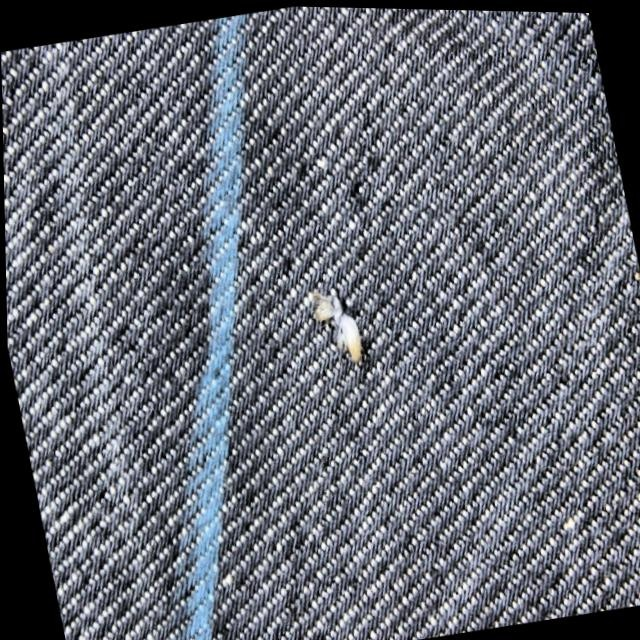Hole: (290, 251, 387, 398), (308, 278, 368, 366)
